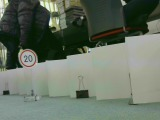speed_20: (18, 49, 38, 68)
